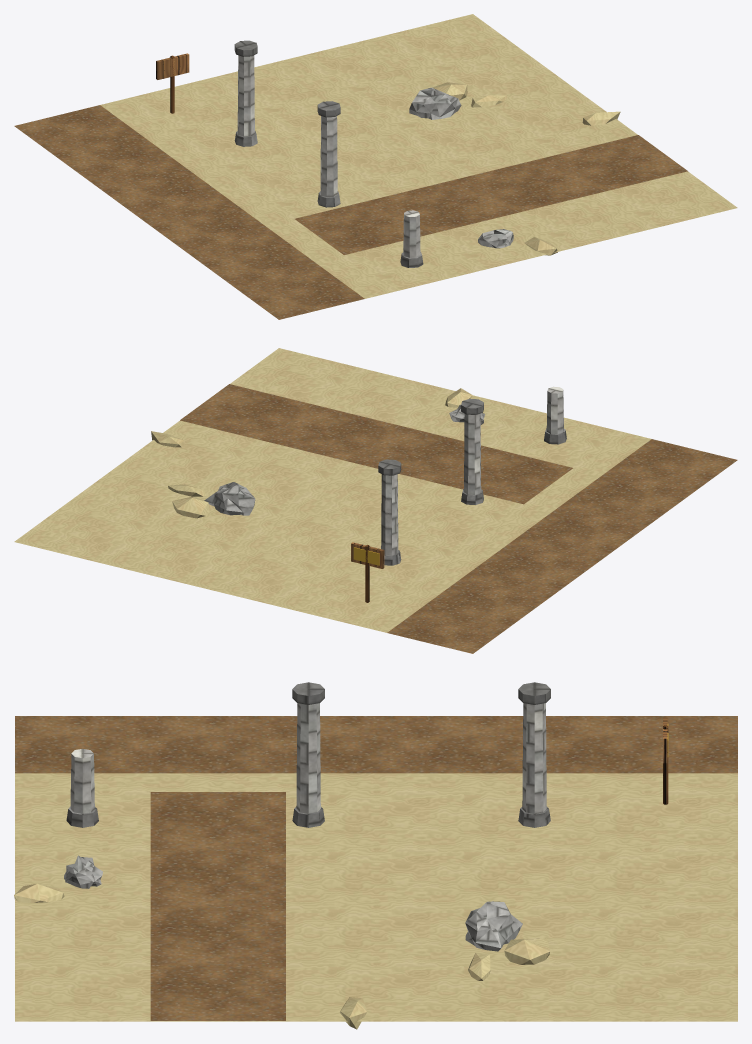
The model's file is chunk_6_20.glb.
The picture shows the model from 3 angles, top to bottom: view 1: azimuth 30°, elevation 25°; view 2: azimuth 150°, elevation 25°; view 3: azimuth 270°, elevation 25°; orthographic projection. The views are drawn at different scales.
Visible parts, largest first — view 1: chunk_6_20; view 2: chunk_6_20; view 3: chunk_6_20.
Boxes of the visible parts, x1,y1,x2,y2 form: chunk_6_20: [14, 14, 737, 319]; chunk_6_20: [14, 348, 737, 653]; chunk_6_20: [14, 682, 737, 1029].
Size of the model in its own units: 16.19 by 3.7 by 16.02.
8 materials, 7 textured.
